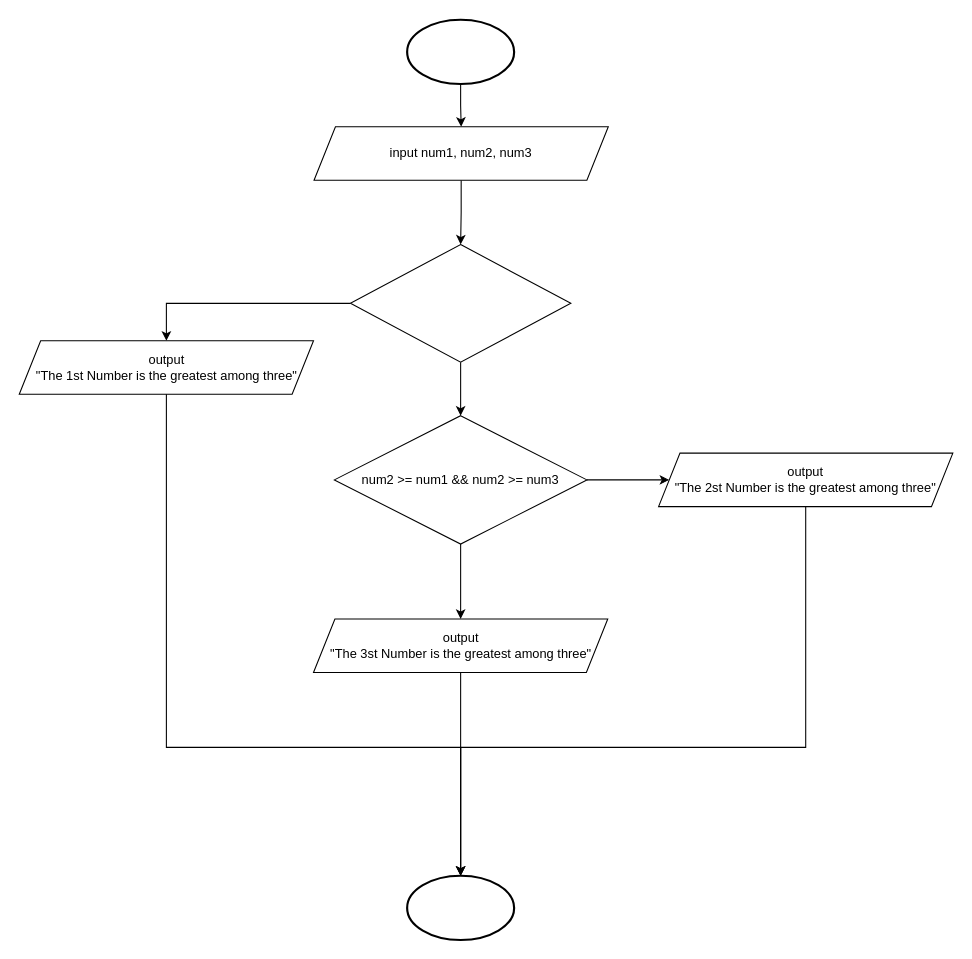
The diagram is 972 pixels wide and 959 high, and some of its shapes have lost their labels. Here are the shapes that lost their labels. From the top down, the box of each, then its label:
(406, 18, 515, 85): start
(349, 243, 571, 362): num1 >= num2 && num1 >= num3
(406, 874, 515, 941): end
